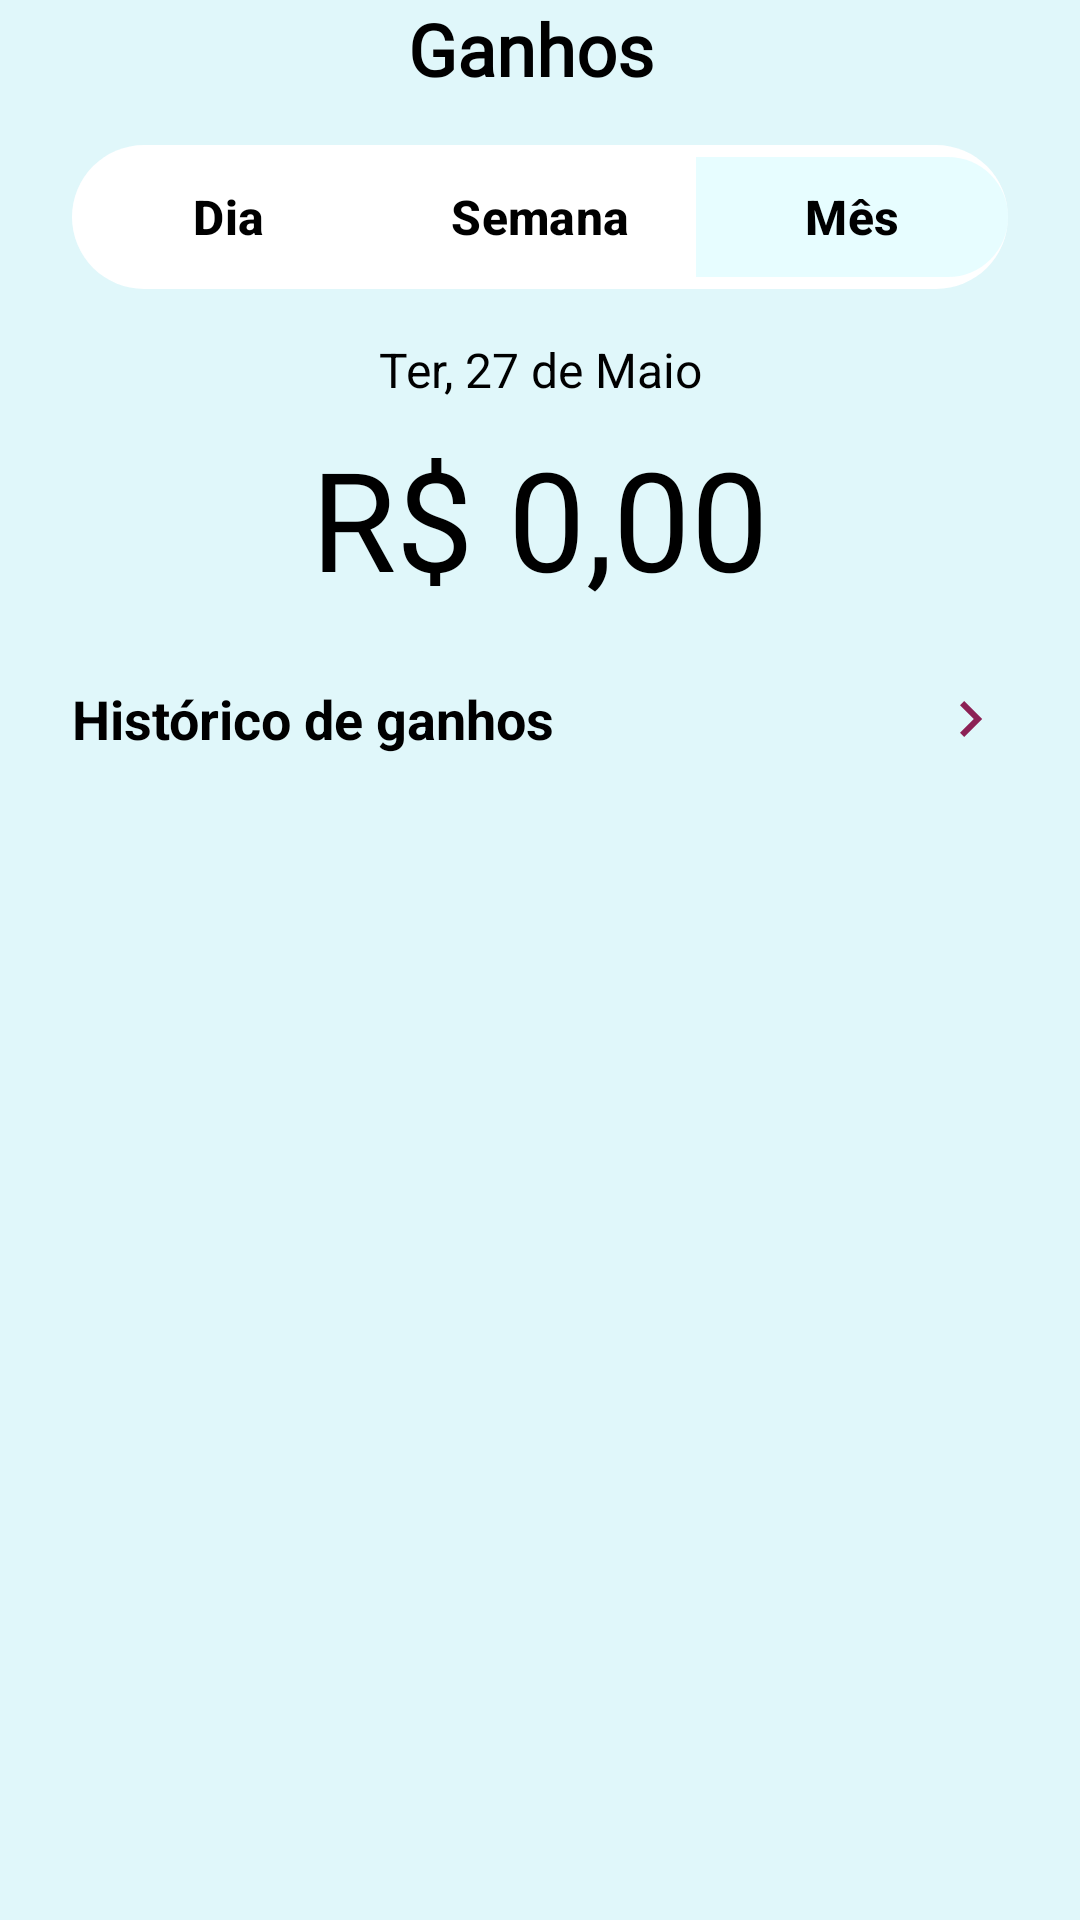

Where icons sit on this 1080w x 1920h app screen, as {"x1": x1, "y1": y1, "x2": x2, "y2": y2}:
Ver todos os ganhos: {"x1": 960, "y1": 701, "x2": 982, "y2": 737}
